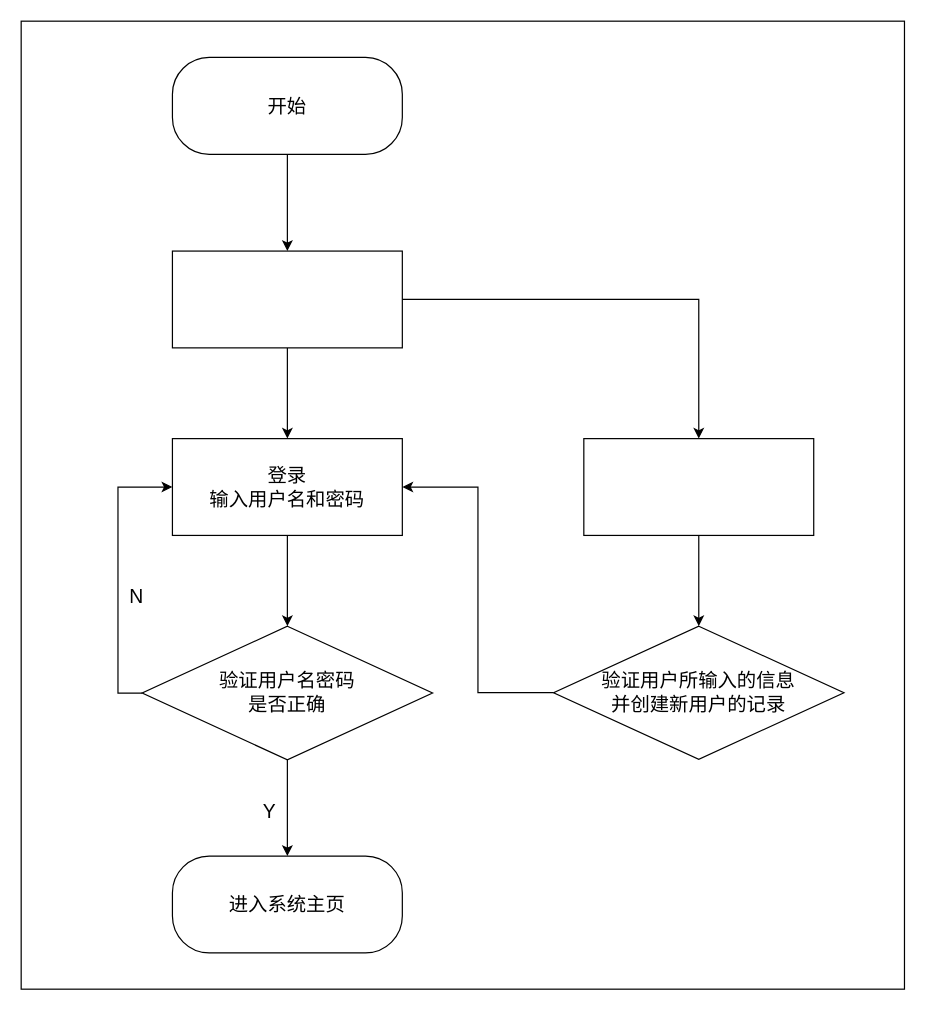
The diagram is 926 pixels wide and 1010 high, and some of its shapes have lost their labels. The shapes that lost their labels are listed below. From the top down, each one's centre as x and y in pixels, then its label:
[286,299]: 用户选择 直接登录或注册
[698,486]: 注册 输入注册所需信息
